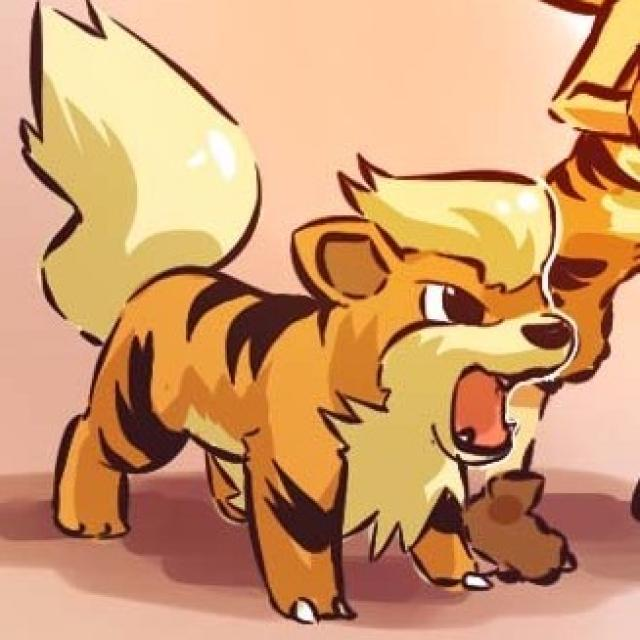Growlithe: (51, 152, 578, 619)
